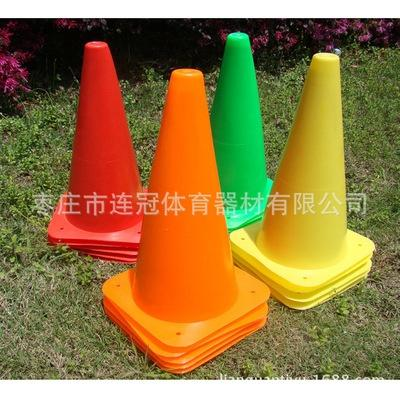cone_barrel: (125, 75, 244, 343), (254, 54, 365, 274), (46, 45, 148, 247), (208, 34, 272, 236)
